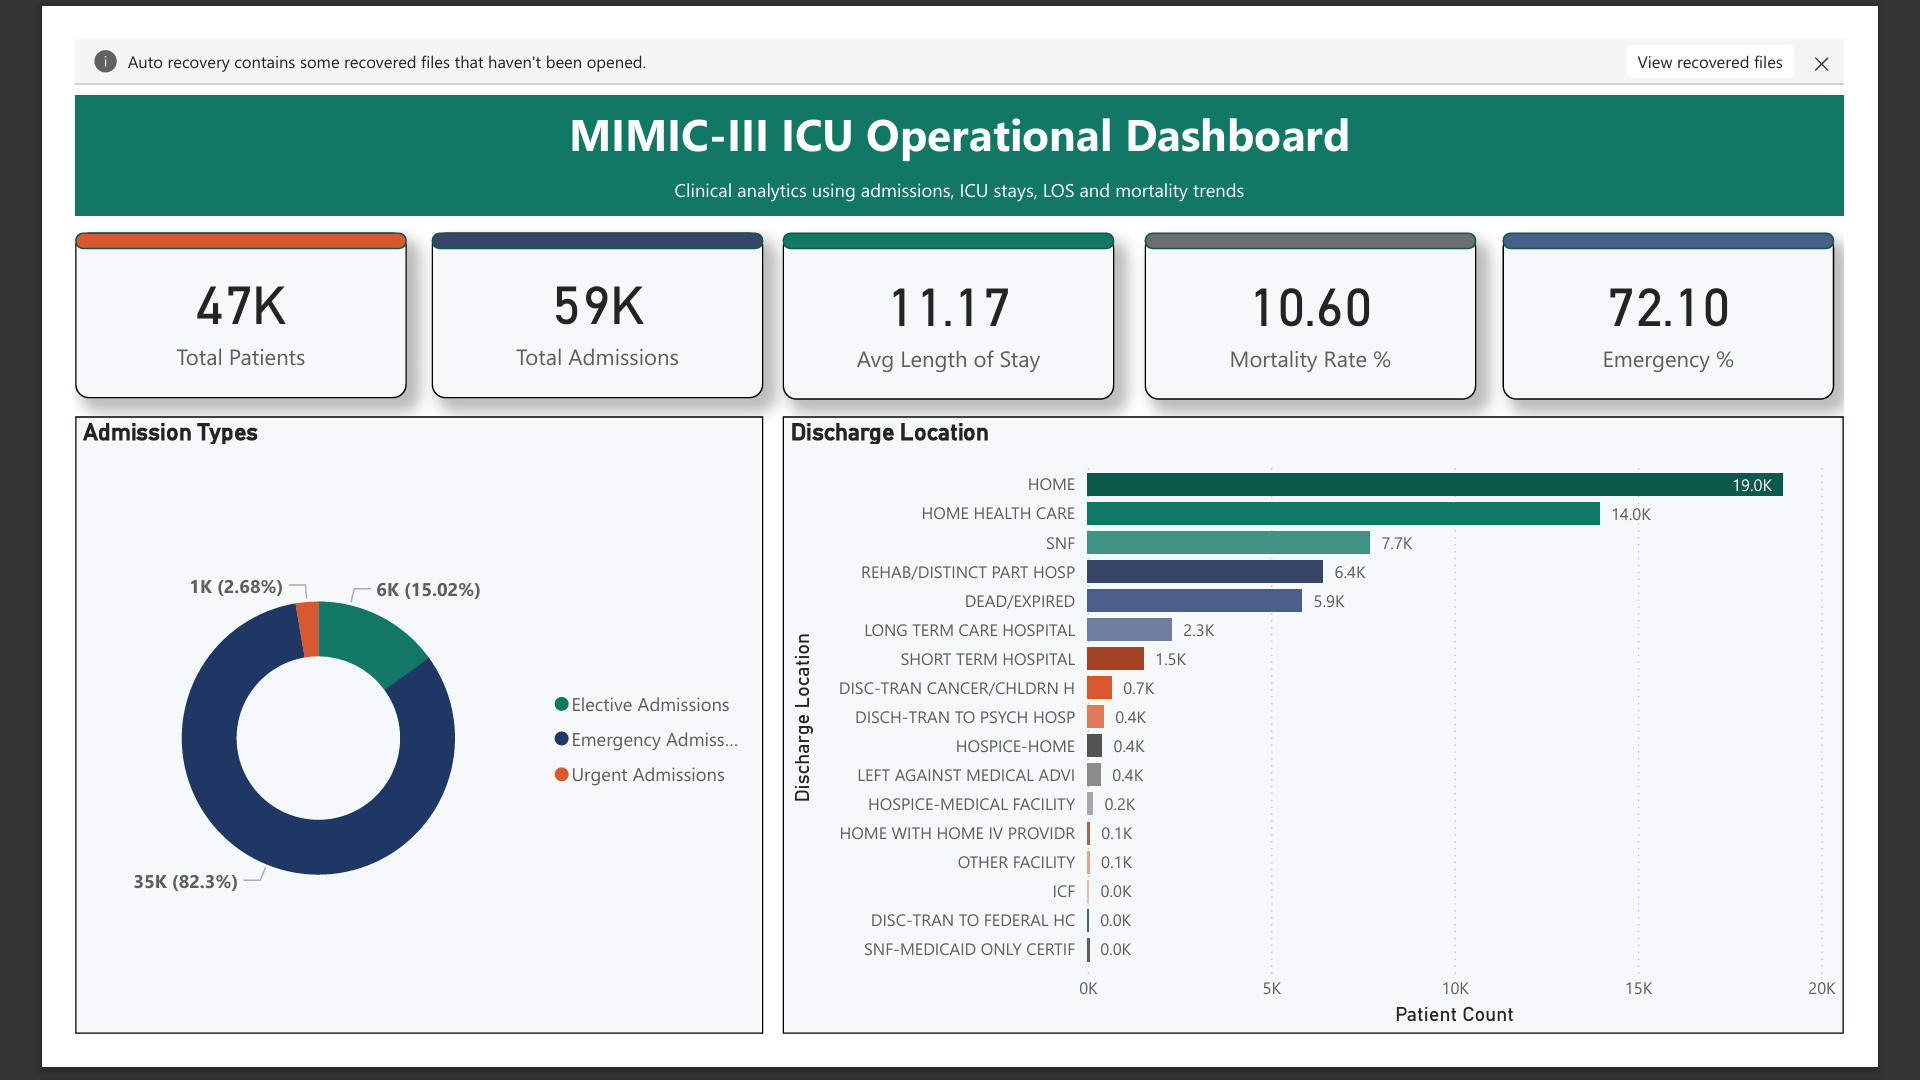

This screenshot's page, from the dashboard's own definition file:
{"tool":"powerbi","page":{"name":"Executive Summary","canvas":[1280,720],"ordinal":0},"visuals":[{"type":"card","fields":{"Values":["Sum(KPIs.total_patients)"]},"box":[0,140,240,120],"z":0},{"type":"card","fields":{"Values":["Sum(KPIs.total_admissions)"]},"box":[258,140,240,120],"z":1000},{"type":"card","fields":{"Values":["Sum(KPIs.avg_hosp_los_days)"]},"box":[511.8,141.3,240,120],"z":2000},{"type":"card","fields":{"Values":["Sum(KPIs.mortality_rate_pct)"]},"box":[773.9,141.3,240,120],"z":3000},{"type":"card","fields":{"Values":["Sum(KPIs.emergency_pct)"]},"box":[1033.3,141.3,240,120],"z":4000},{"type":"shape","box":[0,41.2,1280.3,70],"z":5000},{"type":"textbox","box":[0,41.2,1280.3,70],"z":6000},{"type":"textbox","box":[0,94.7,1280.3,32.9],"z":7000},{"type":"shape","box":[0,140,240.1,12.3],"z":8000},{"type":"shape","box":[1033.3,140,240.1,12.3],"z":9000},{"type":"shape","box":[773.9,140,240.1,12.3],"z":10000},{"type":"shape","box":[511.8,140,240.1,12.3],"z":11000},{"type":"shape","box":[258,140,240.1,12.3],"z":12000},{"type":"donutChart","title":"Admission Types","fields":{"Y":["Sum(Monthly_trends.elective_admissions)","Sum(Monthly_trends.emergency_admissions)","Sum(Monthly_trends.urgent_admissions)"]},"box":[0,273.1,498.1,447.3],"z":13000},{"type":"clusteredBarChart","title":"Discharge Location","fields":{"Category":["Discharge_destination.discharge_location"],"Y":["Sum(Discharge_destination.patient_count)"]},"box":[511.8,273.1,768.4,447.3],"z":14000}]}

Visuals, with their boxes on the page's 1280x720 design canvas (x1, y1, x2, y2). These are canvas units, not pixel positions in the 1920x1080 screenshot, which may show the page scaled, cropped or inside an application window:
card - Sum(KPIs.total_patients): 0:140:240:260
card - Sum(KPIs.total_admissions): 258:140:498:260
card - Sum(KPIs.avg_hosp_los_days): 512:141:752:261
card - Sum(KPIs.mortality_rate_pct): 774:141:1014:261
card - Sum(KPIs.emergency_pct): 1033:141:1273:261
shape: 0:41:1280:111
textbox: 0:41:1280:111
textbox: 0:95:1280:128
shape: 0:140:240:152
shape: 1033:140:1273:152
shape: 774:140:1014:152
shape: 512:140:752:152
shape: 258:140:498:152
"Admission Types" donutChart: 0:273:498:720
"Discharge Location" clusteredBarChart: 512:273:1280:720
